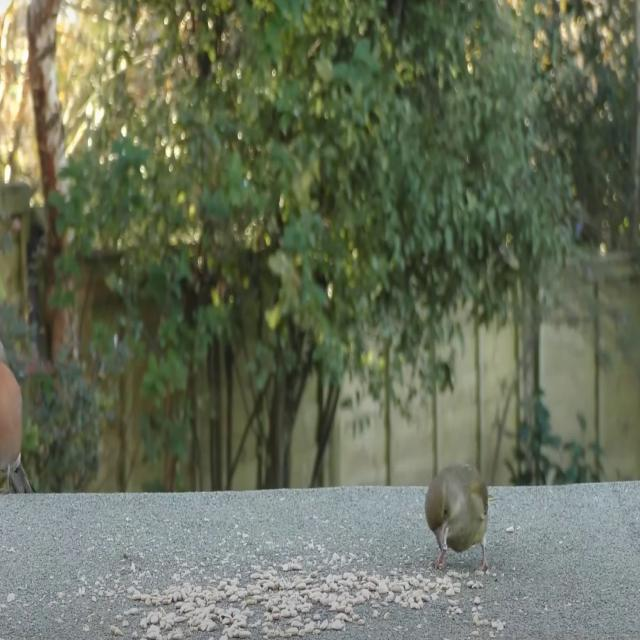beak: (436, 520, 452, 555)
bird: (425, 458, 494, 578), (0, 348, 33, 502)
